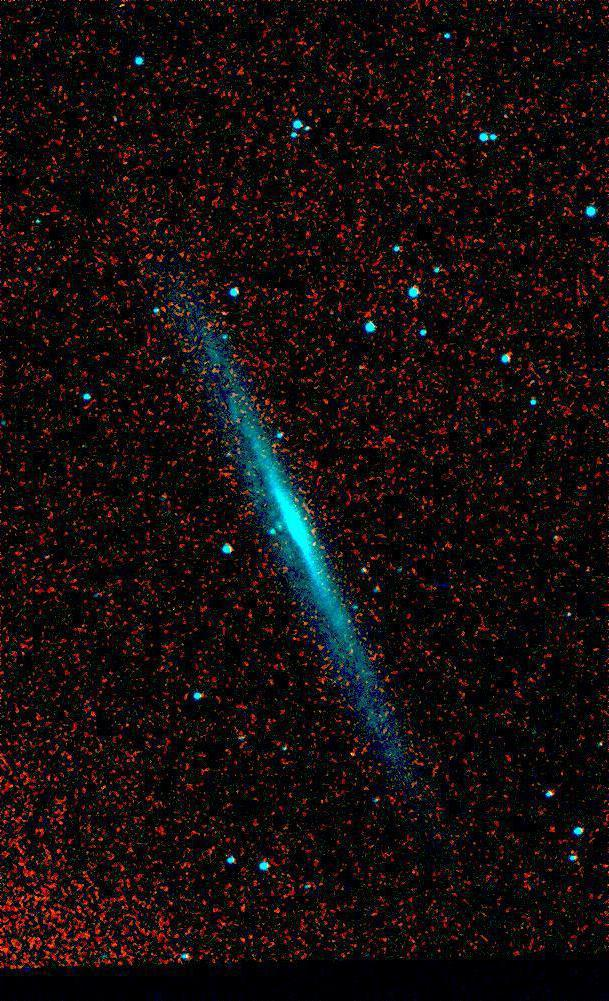star: (195, 355, 225, 385)
